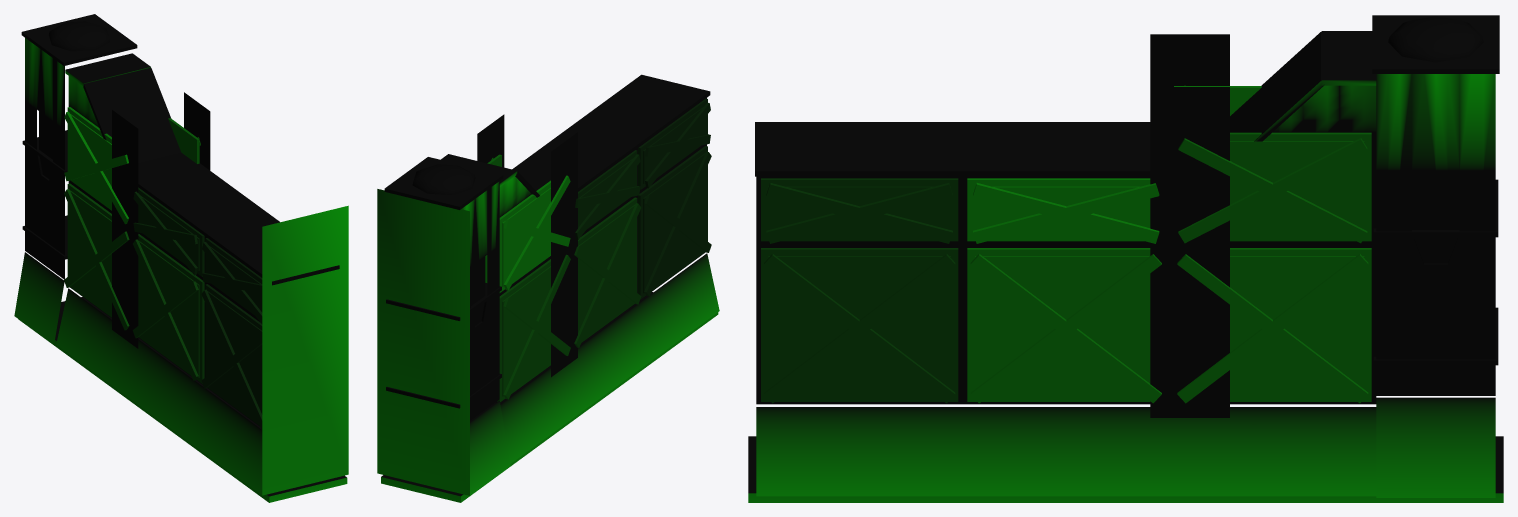
Rendered from l_heavywall.glb.
The picture shows the model from 3 angles, left to right: view 1: azimuth 30°, elevation 25°; view 2: azimuth 150°, elevation 25°; view 3: azimuth 270°, elevation 25°; orthographic projection. The views are drawn at different scales.
Visible parts, largest first — view 1: lod0; view 2: lod0; view 3: lod0.
Boxes of the visible parts, x1,y1,x2,y2 form: lod0: (14,14,348,502); lod0: (377,74,719,502); lod0: (748,15,1503,502).
Size of what is drawn, in the model's own units: 5.91 by 18.66 by 28.45.
